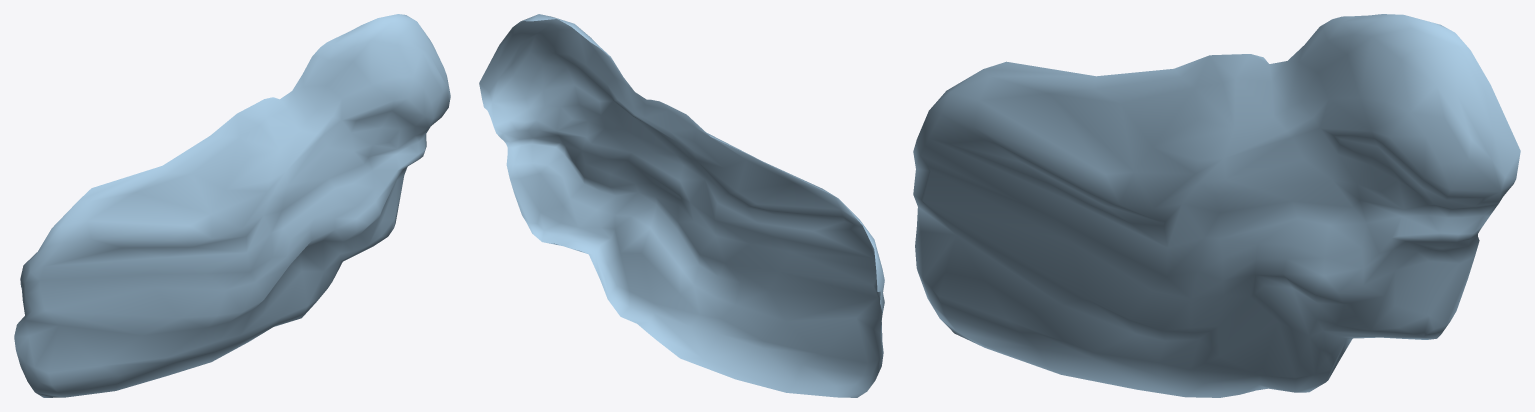
Rendered from RS-4W_ice00LEFT.fbx.
The picture shows the model from 3 angles, left to right: view 1: azimuth 30°, elevation 25°; view 2: azimuth 150°, elevation 25°; view 3: azimuth 330°, elevation 25°; orthographic projection. The views are drawn at different scales.
Parts seen in each view (by area): view 1: RS-4W_ice00LEFT.001; view 2: RS-4W_ice00LEFT.001; view 3: RS-4W_ice00LEFT.001.
Part boxes in pixels (x1=…): RS-4W_ice00LEFT.001: x1=14, y1=14, x2=450, y2=397; RS-4W_ice00LEFT.001: x1=479, y1=14, x2=884, y2=397; RS-4W_ice00LEFT.001: x1=913, y1=14, x2=1520, y2=397.
Bounding box in the file's own units: 5569 × 3994 × 758.
